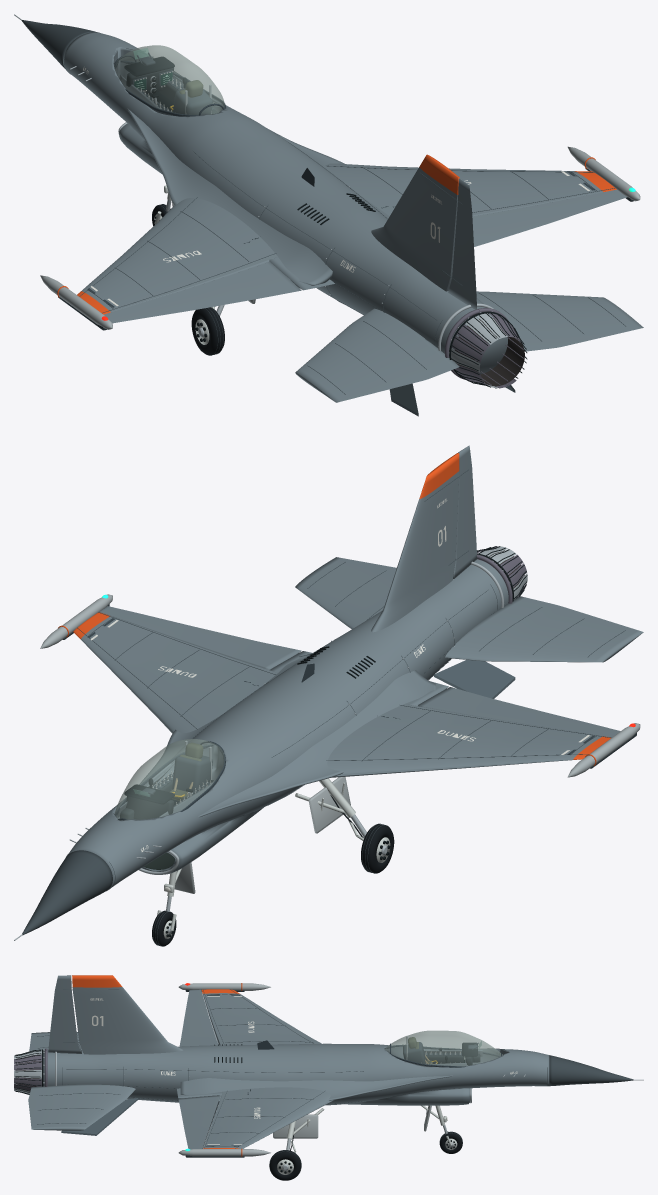
File: kestrel.glb
3 renders of one model, top to bottom at view 1: azimuth 30°, elevation 25°; view 2: azimuth 150°, elevation 25°; view 3: azimuth 270°, elevation 25°, orthographic. The views are drawn at different scales.
Parts seen in each view (by area): view 1: Fuselage_Mesh, Wing_L_Mesh, Stabilator_L_Mesh, Wing_R_Mesh, Fin_Mesh, Stabilator_R_Mesh, Canopy_Mesh, Flaperon_L_Mesh, Cockpit_Mesh, Flaperon_R_Mesh, Rudder_Mesh, Engine_Mesh (+3 smaller); view 2: Fuselage_Mesh, Wing_L_Mesh, Wing_R_Mesh, Stabilator_L_Mesh, Fin_Mesh, Canopy_Mesh, Stabilator_R_Mesh, Cockpit_Mesh, Flaperon_R_Mesh, Flaperon_L_Mesh, GearMain_L_Mesh, Rudder_Mesh (+5 smaller); view 3: Fuselage_Mesh, Fin_Mesh, Wing_R_Mesh, Stabilator_R_Mesh, Wing_L_Mesh, Canopy_Mesh, Rudder_Mesh, Flaperon_R_Mesh, Flaperon_L_Mesh, Cockpit_Mesh, GearMain_R_Mesh, TipPod_R_Mesh (+5 smaller).
Boxes of the visible parts, x1=… form: Fuselage_Mesh: x1=21, y1=20, x2=515, y2=416; Wing_L_Mesh: x1=77, y1=197, x2=334, y2=314; Stabilator_L_Mesh: x1=295, y1=308, x2=459, y2=402; Wing_R_Mesh: x1=326, y1=163, x2=616, y2=216; Fin_Mesh: x1=371, y1=154, x2=462, y2=291; Stabilator_R_Mesh: x1=476, y1=291, x2=643, y2=351; Canopy_Mesh: x1=114, y1=45, x2=225, y2=116; Flaperon_L_Mesh: x1=104, y1=262, x2=301, y2=323; Cockpit_Mesh: x1=124, y1=48, x2=217, y2=114; Flaperon_R_Mesh: x1=472, y1=189, x2=627, y2=246; Rudder_Mesh: x1=448, y1=178, x2=476, y2=309; Engine_Mesh: x1=438, y1=303, x2=524, y2=386; Fuselage_Mesh: x1=22, y1=559, x2=515, y2=934; Wing_L_Mesh: x1=326, y1=681, x2=611, y2=777; Wing_R_Mesh: x1=73, y1=612, x2=312, y2=733; Stabilator_L_Mesh: x1=445, y1=596, x2=643, y2=662; Fin_Mesh: x1=371, y1=453, x2=468, y2=632; Canopy_Mesh: x1=114, y1=739, x2=225, y2=820; Stabilator_R_Mesh: x1=295, y1=557, x2=396, y2=628; Cockpit_Mesh: x1=120, y1=741, x2=213, y2=819; Flaperon_R_Mesh: x1=99, y1=606, x2=301, y2=669; Flaperon_L_Mesh: x1=418, y1=687, x2=620, y2=737; GearMain_L_Mesh: x1=295, y1=778, x2=394, y2=873; Rudder_Mesh: x1=453, y1=445, x2=477, y2=578; Fuselage_Mesh: x1=43, y1=1040, x2=633, y2=1135; Fin_Mesh: x1=63, y1=975, x2=182, y2=1054; Wing_R_Mesh: x1=177, y1=1087, x2=334, y2=1148; Stabilator_R_Mesh: x1=28, y1=1084, x2=135, y2=1130; Wing_L_Mesh: x1=201, y1=989, x2=321, y2=1045; Canopy_Mesh: x1=384, y1=1030, x2=502, y2=1067; Rudder_Mesh: x1=48, y1=975, x2=81, y2=1053; Flaperon_R_Mesh: x1=178, y1=1095, x2=219, y2=1149; Flaperon_L_Mesh: x1=179, y1=989, x2=218, y2=1046; Cockpit_Mesh: x1=403, y1=1036, x2=481, y2=1065; GearMain_R_Mesh: x1=269, y1=1108, x2=324, y2=1180; TipPod_R_Mesh: x1=178, y1=1148, x2=270, y2=1157.
Bounding box in the file's own units: 9.81 × 4.8 × 15.43.
